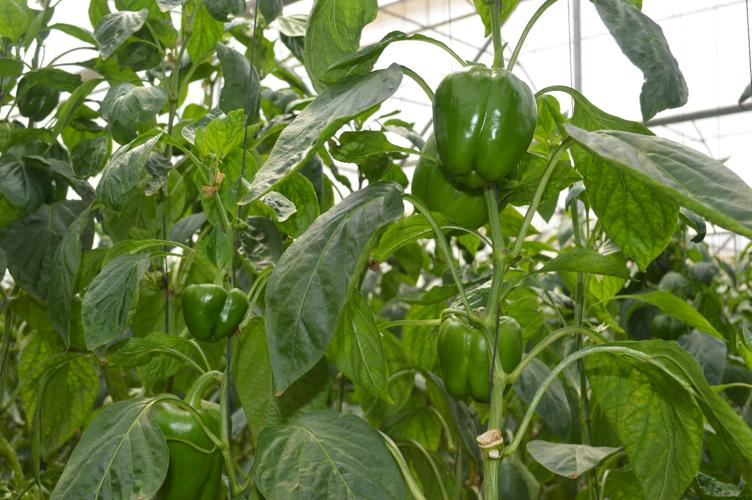BellPepper: (431, 67, 531, 187), (144, 397, 226, 500), (410, 145, 502, 231), (437, 312, 523, 401), (179, 286, 249, 341)
